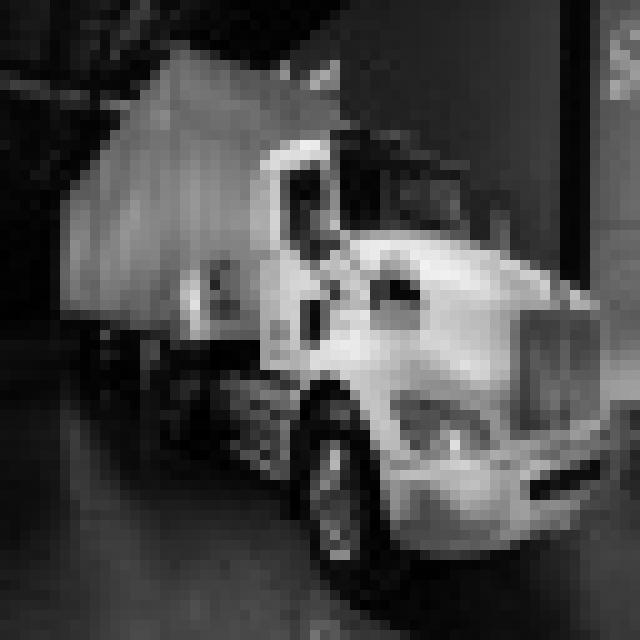trucks: (50, 54, 616, 599)
